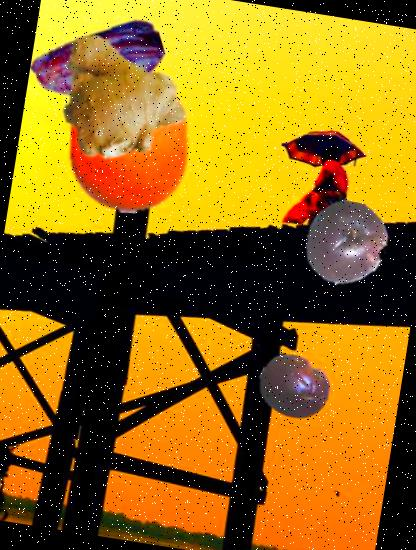Dates: (22, 0, 174, 138)
Ginger: (43, 17, 196, 170)
Grapefruit: (49, 62, 210, 223)
Passion: (298, 195, 394, 292), (253, 344, 338, 430)
